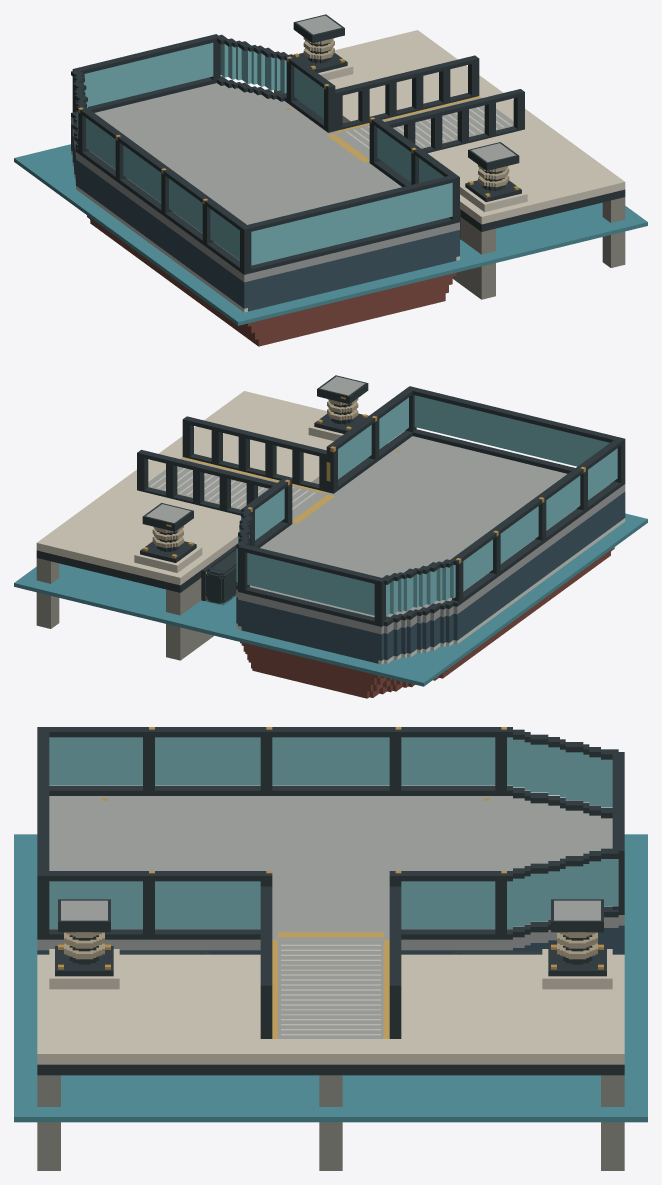
3 views of the same model, one above another, from view 1: azimuth 30°, elevation 25°; view 2: azimuth 150°, elevation 25°; view 3: azimuth 270°, elevation 25° (orthographic). The views are drawn at different scales.
Parts seen in each view (by area): view 1: 渡船船艏/船底体素组件, 渡船甲板舷栏和登离缺口组件, 码头地坪、固定接板承梁、护舷下托与检修龙骨垫（辅助）, 明确水线Y1.2m，仅非碰撞显示水面（辅助）, 码头至渡船真实登离接板, 码头系船柱与护舷道具 (×2); view 2: 渡船船艏/船底体素组件, 渡船甲板舷栏和登离缺口组件, 码头地坪、固定接板承梁、护舷下托与检修龙骨垫（辅助）, 明确水线Y1.2m，仅非碰撞显示水面（辅助）, 码头至渡船真实登离接板, 码头系船柱与护舷道具 (×3); view 3: 渡船甲板舷栏和登离缺口组件, 码头地坪、固定接板承梁、护舷下托与检修龙骨垫（辅助）, 渡船船艏/船底体素组件, 明确水线Y1.2m，仅非碰撞显示水面（辅助）, 码头至渡船真实登离接板, 码头系船柱与护舷道具 (×2).
Boxes of the visible parts, x1,y1,x2,y2 form: 渡船船艏/船底体素组件: (71,83,459,346); 渡船甲板舷栏和登离缺口组件: (71,34,459,274); 码头地坪、固定接板承梁、护舷下托与检修龙骨垫（辅助）: (274,30,625,299); 明确水线Y1.2m，仅非碰撞显示水面（辅助）: (14,144,647,325); 码头至渡船真实登离接板: (335,55,524,168); 码头系船柱与护舷道具 (×2): (293,14,527,212); 渡船船艏/船底体素组件: (236,436,625,698); 渡船甲板舷栏和登离缺口组件: (236,386,625,626); 码头地坪、固定接板承梁、护舷下托与检修龙骨垫（辅助）: (36,391,387,660); 明确水线Y1.2m，仅非碰撞显示水面（辅助）: (14,513,647,686); 码头至渡船真实登离接板: (137,416,326,529); 码头系船柱与护舷道具 (×3): (134,375,368,603); 渡船甲板舷栏和登离缺口组件: (37,727,624,939); 码头地坪、固定接板承梁、护舷下托与检修龙骨垫（辅助）: (37,954,624,1170); 渡船船艏/船底体素组件: (37,796,624,954); 明确水线Y1.2m，仅非碰撞显示水面（辅助）: (14,834,647,1122); 码头至渡船真实登离接板: (260,886,401,1038); 码头系船柱与护舷道具 (×2): (49,899,612,989).
Bounding box in the file's own units: 11.4 × 3.4 × 10.8.
Materials: 14 (14 with a texture image).
